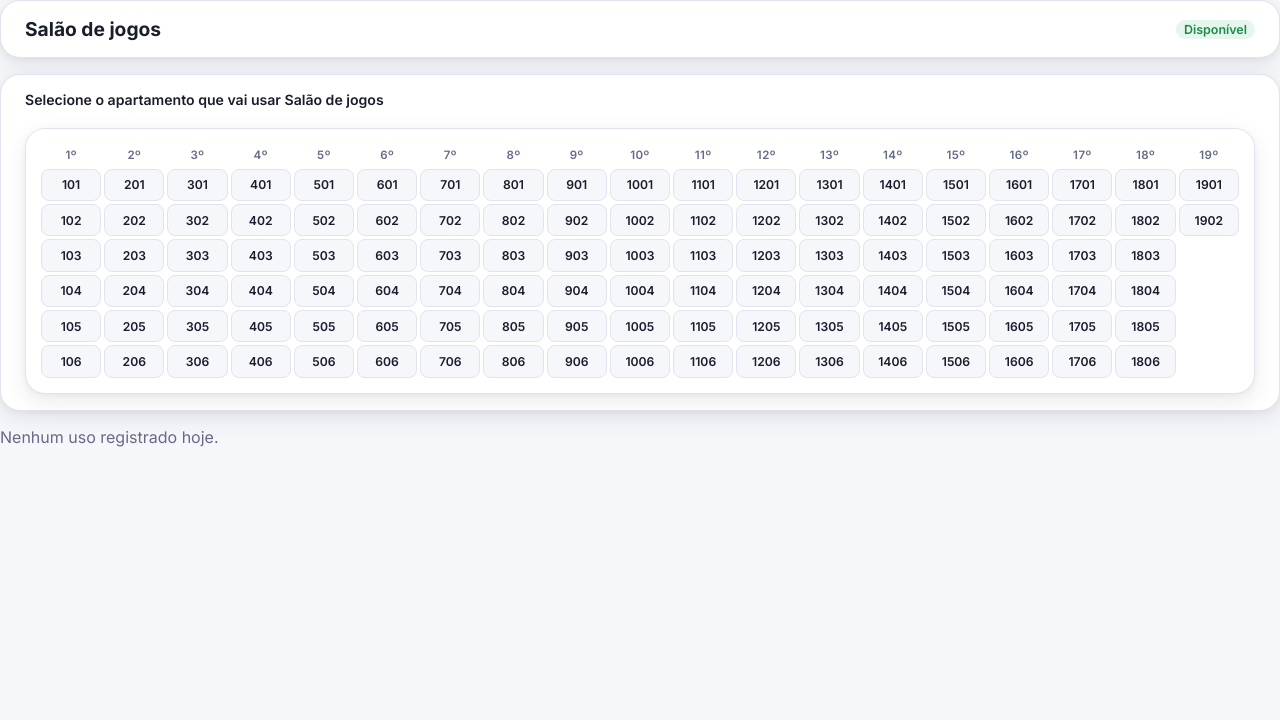
Test: MezaninoRoomPanel › shows an error toast when registering an entry fails
Click the button "101".
click(71, 185)  # box x1=41 y1=169 x2=101 y2=201
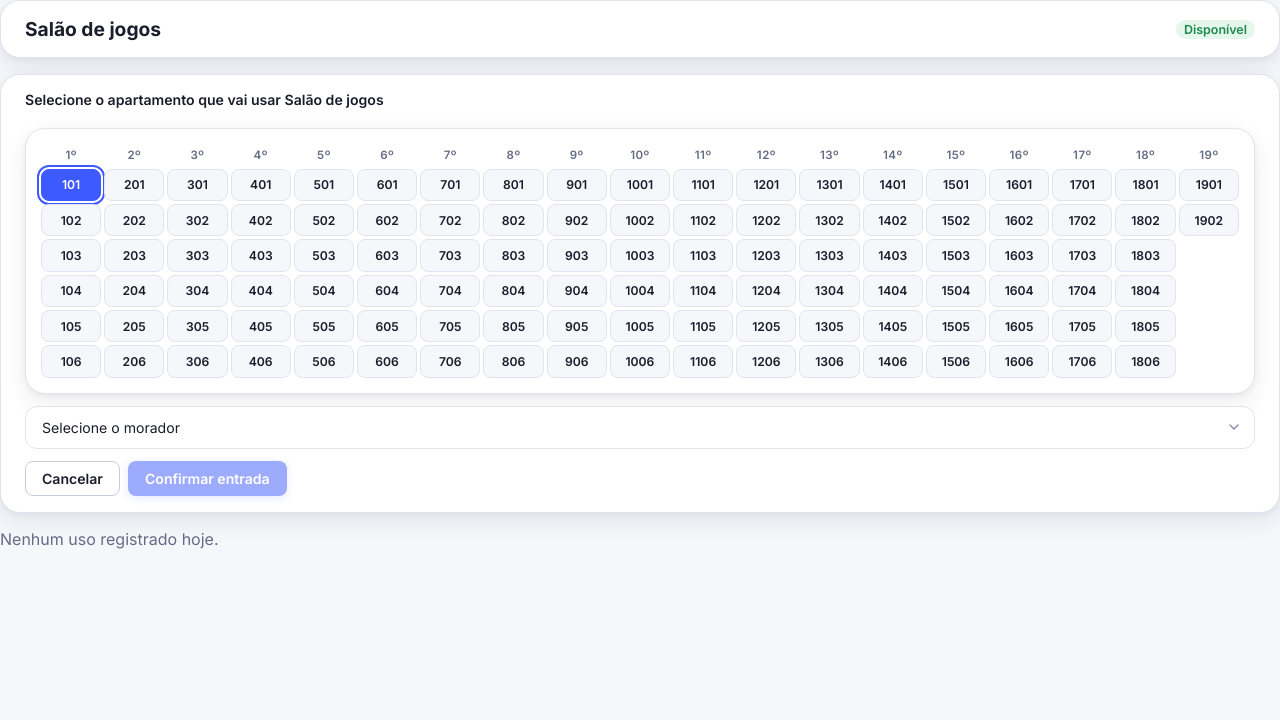
Select "Resident Person" in the dropdown named "Morador" at (640, 427), box x1=25 y1=406 x2=1255 y2=449
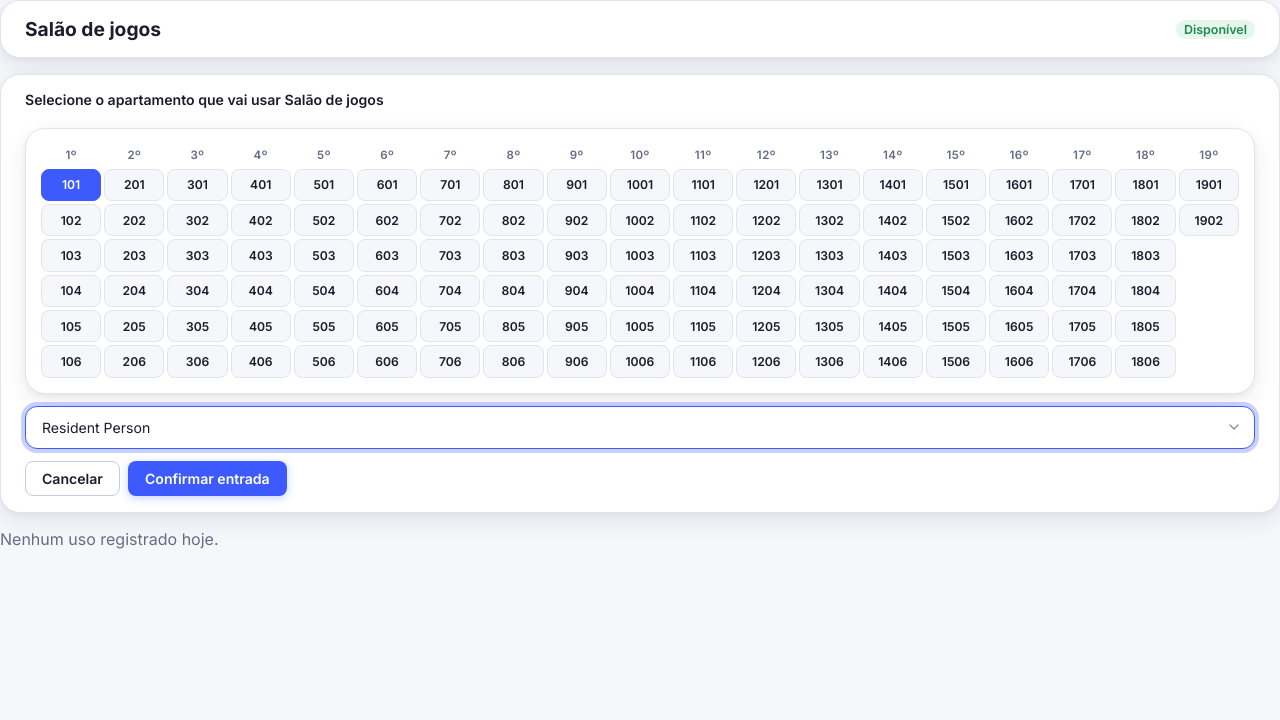
Click the button "Confirmar entrada".
click(207, 478)  # box x1=128 y1=461 x2=287 y2=496
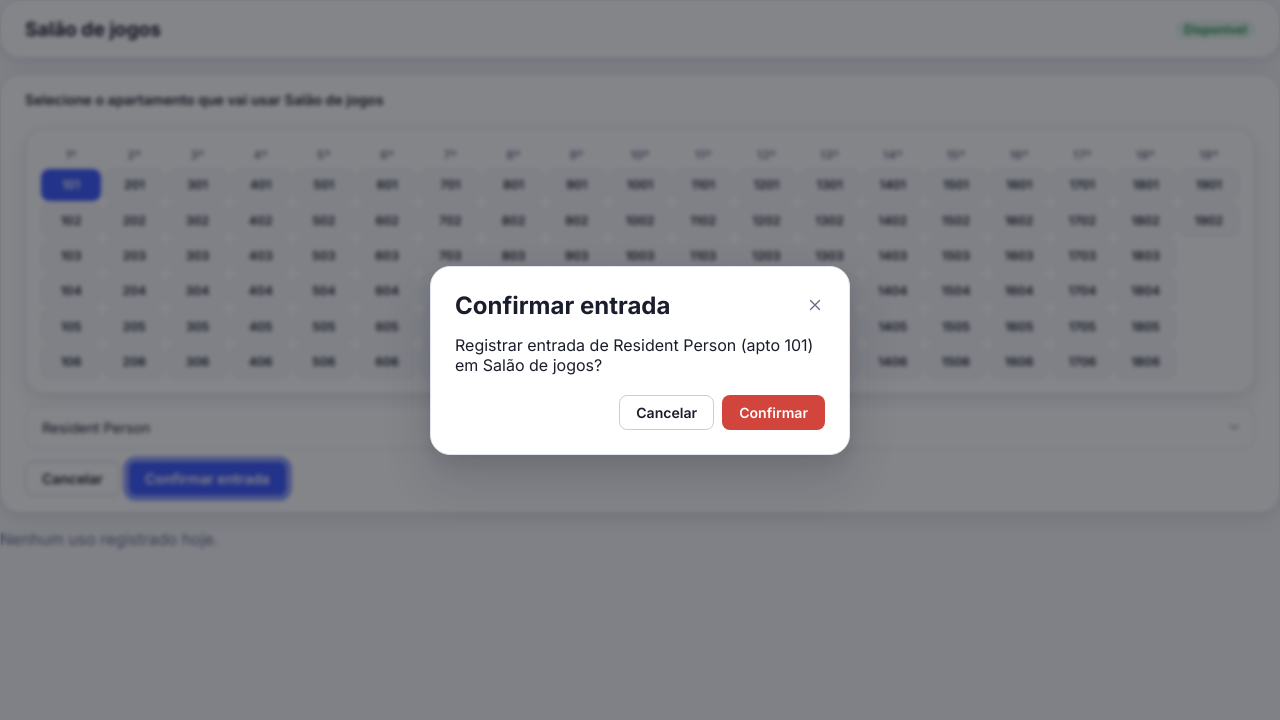
Click the button "Confirmar".
click(774, 412)  # box x1=722 y1=394 x2=825 y2=430
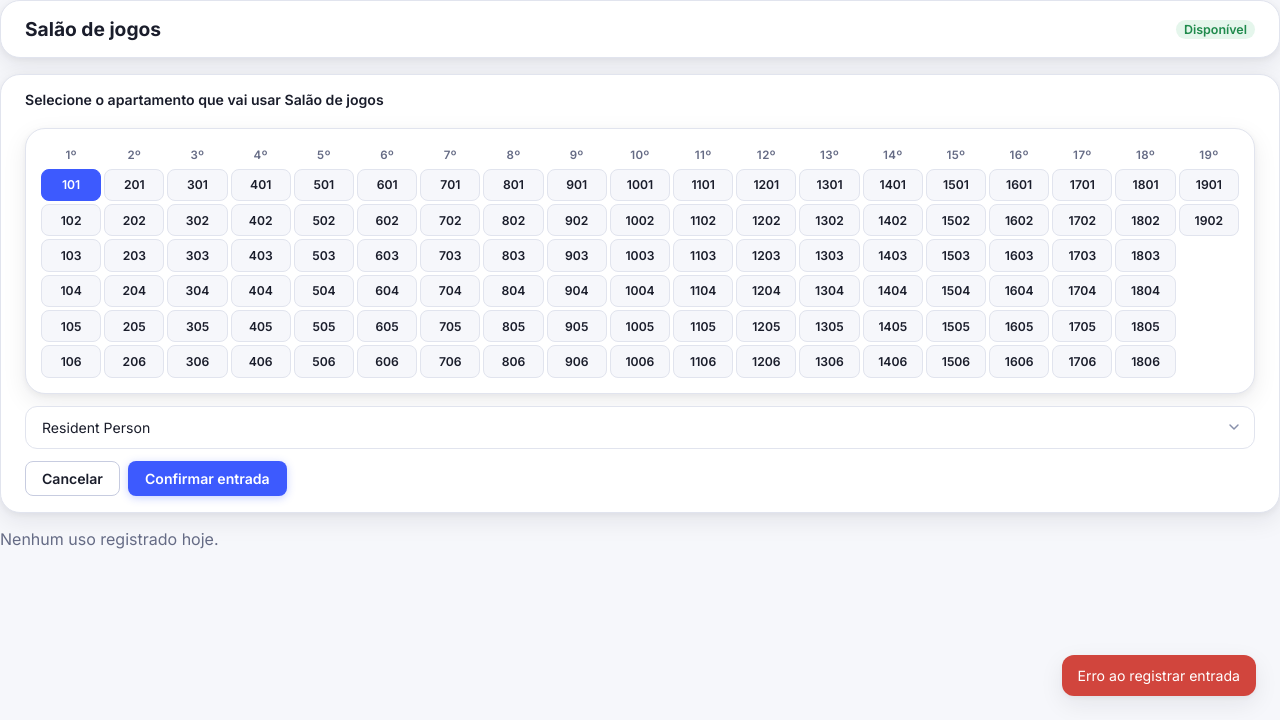
Result: the text "Erro ao registrar entrada" is shown at x1=1062 y1=655 x2=1256 y2=696
